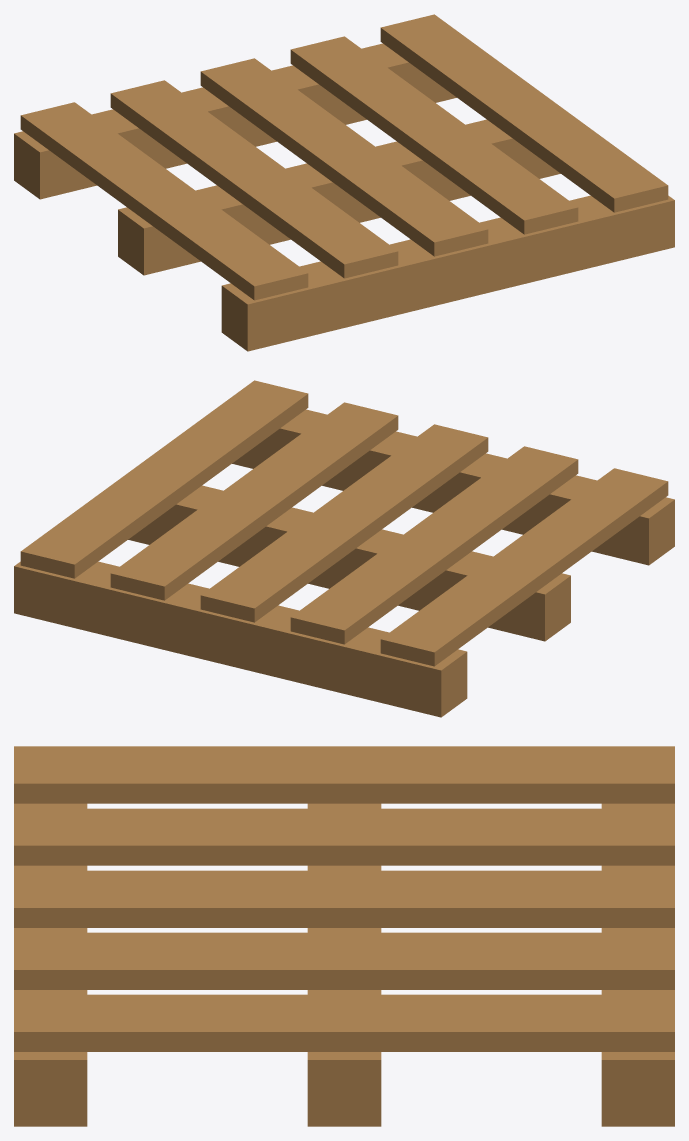
File: pallet.glb
3 renders of one model, top to bottom at view 1: azimuth 30°, elevation 25°; view 2: azimuth 150°, elevation 25°; view 3: azimuth 270°, elevation 25°, orthographic. The views are drawn at different scales.
Visible parts, largest first — view 1: b.016, s.003, s.002, s.004, s, s.001, b.018, b.017; view 2: b.018, s.003, s.002, s.004, s, s.001, b.016, b.017; view 3: s, s.001, s.002, s.003, s.004, b.017, b.016, b.018.
Boxes of the visible parts, x1,y1,x2,y2 form: b.016: (221, 195, 674, 351); s.003: (290, 36, 578, 234); s.002: (200, 58, 488, 256); s.004: (380, 14, 668, 212); s: (20, 102, 308, 300); s.001: (110, 80, 398, 278); b.018: (14, 43, 456, 199); b.017: (118, 119, 560, 275); b.018: (14, 561, 467, 717); s.003: (110, 402, 398, 600); s.002: (200, 424, 488, 622); s.004: (20, 380, 308, 578); s: (380, 468, 668, 666); s.001: (290, 446, 578, 644); b.016: (232, 409, 674, 565); b.017: (128, 485, 570, 641); s: (14, 746, 674, 803); s.001: (14, 808, 674, 865); s.002: (14, 870, 674, 927); s.003: (14, 932, 674, 989); s.004: (14, 994, 674, 1051); b.017: (307, 803, 381, 1126); b.016: (14, 803, 87, 1126); b.018: (601, 803, 674, 1126).
Size of the model in its own units: 0.95 by 0.135 by 0.9.
